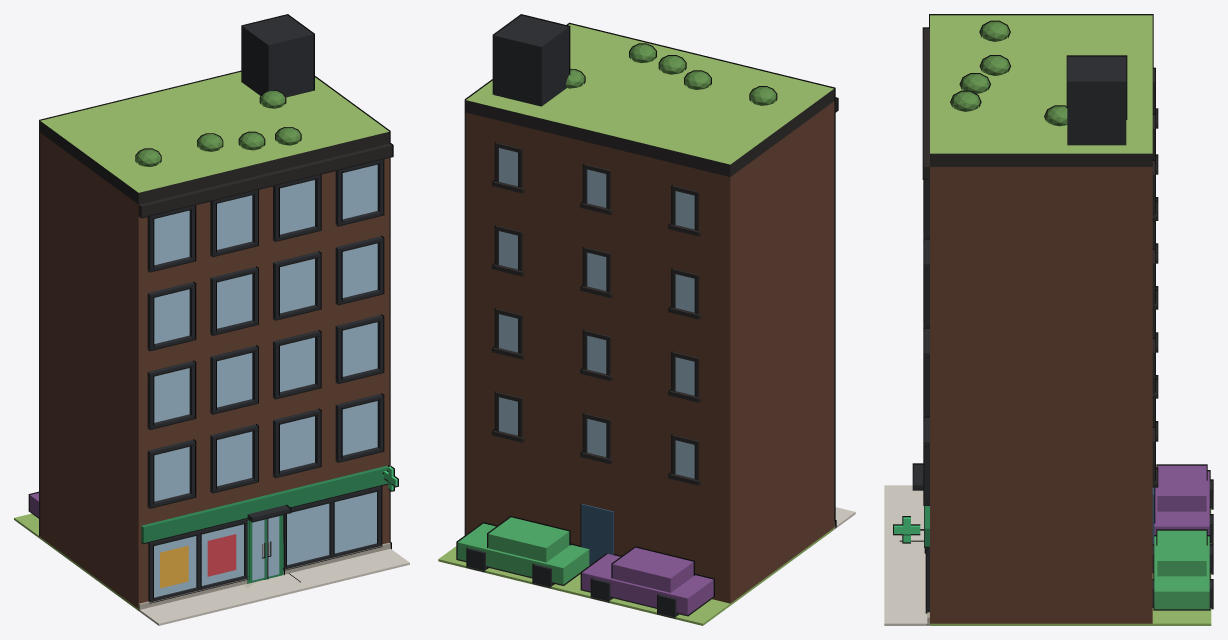
The model's file is Blok_duz_5k_6.fbx.
3 views of the same model, side by side, from view 1: azimuth 30°, elevation 25°; view 2: azimuth 150°, elevation 25°; view 3: azimuth 270°, elevation 25° (orthographic). The views are drawn at different scales.
Parts seen in each view (by area): view 1: Blok_duz_5k_6; view 2: Blok_duz_5k_6; view 3: Blok_duz_5k_6.
Part boxes in pixels (box(x1,y1,x2,y2)): Blok_duz_5k_6: box(14, 14, 409, 625); Blok_duz_5k_6: box(438, 14, 855, 625); Blok_duz_5k_6: box(884, 14, 1213, 625).
Size of the model in its own units: 10.06 by 18.18 by 10.07.
